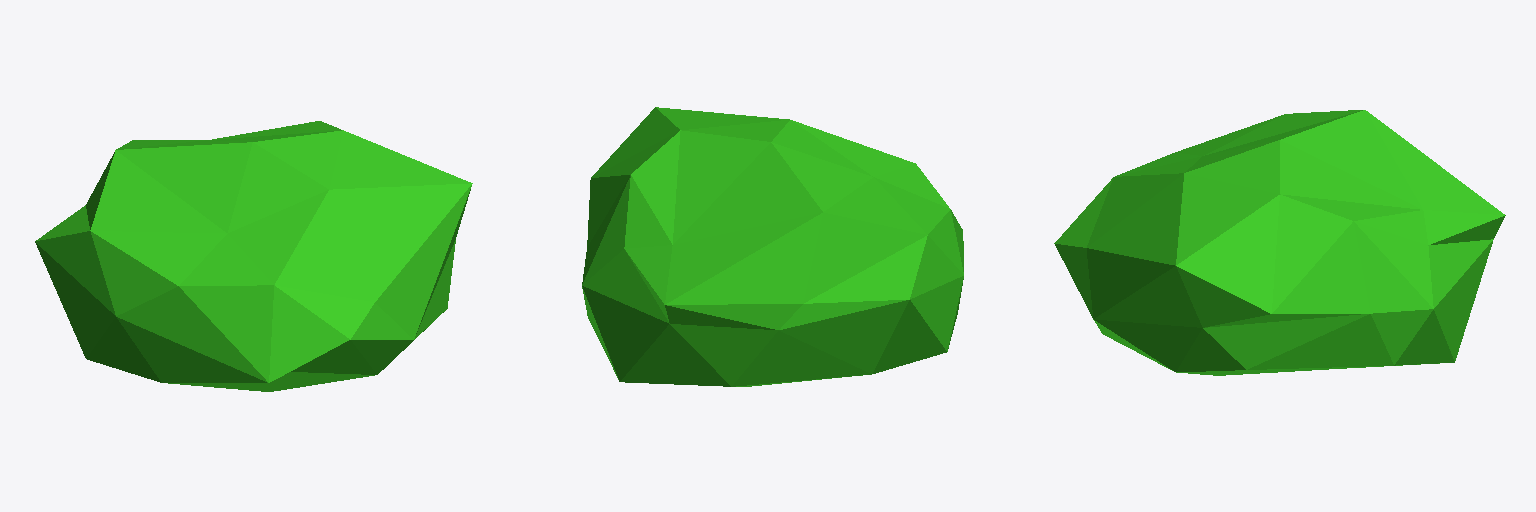
The model's file is bush1.obj.
3 renders of one model, left to right at view 1: azimuth 30°, elevation 25°; view 2: azimuth 150°, elevation 25°; view 3: azimuth 270°, elevation 25°, orthographic.
Parts seen in each view (by area): view 1: bush1_Icosphere.006; view 2: bush1_Icosphere.006; view 3: bush1_Icosphere.006.
Part boxes in pixels (left/top/right/bottom): bush1_Icosphere.006: left=35, top=121, right=472, bottom=391; bush1_Icosphere.006: left=582, top=107, right=963, bottom=386; bush1_Icosphere.006: left=1054, top=110, right=1505, bottom=375.
Bounding box in the file's own units: 1.39 × 0.8388 × 1.5.